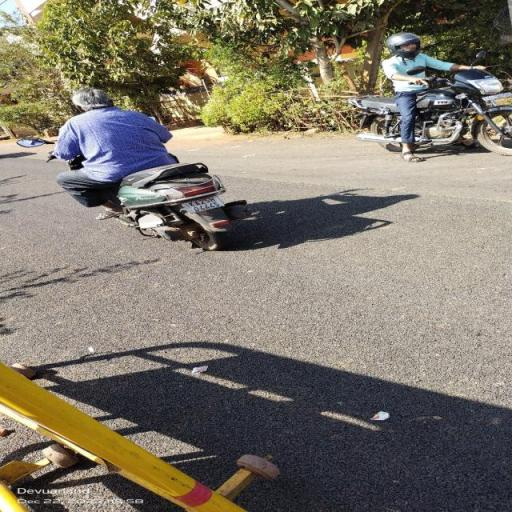bike: (13, 85, 255, 252)
numberplate: (183, 187, 222, 215)
withouthelmet: (70, 88, 108, 110)
